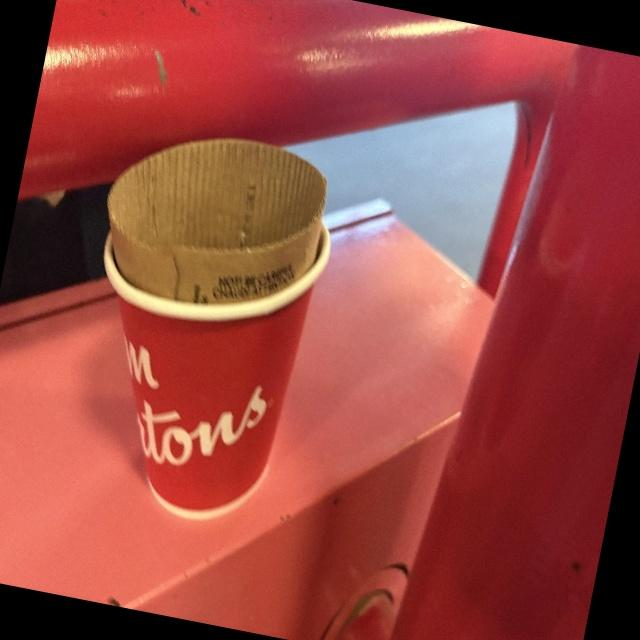Timmies: (50, 173, 342, 543)
